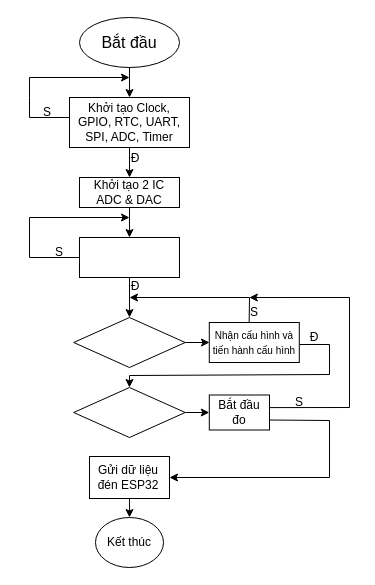
Image size: 375x585. Some labels were removed from this diagram. The centre of each missing label's shape, as x and y in pixels:
Chờ sự kiện từ ESP32: (x=129, y=257)
Sự kiện cấu hình thiết bị: (x=129, y=342)
Sự kiện tiến hành đo: (x=129, y=412)
